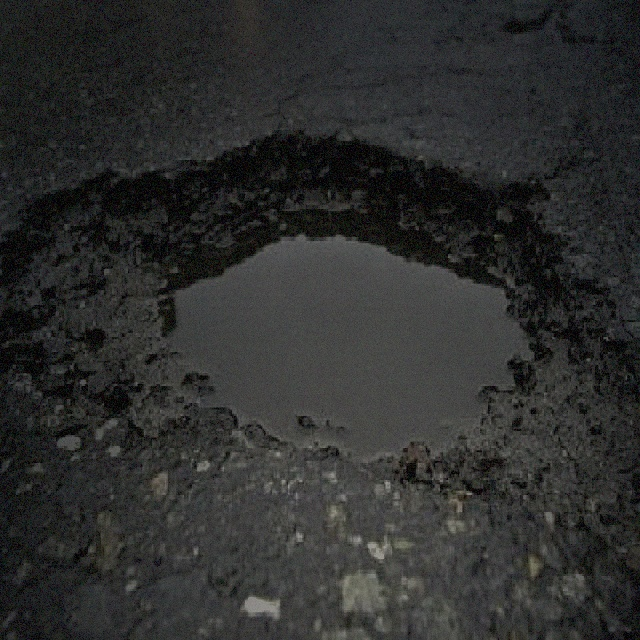pothole: (0, 120, 602, 482)
